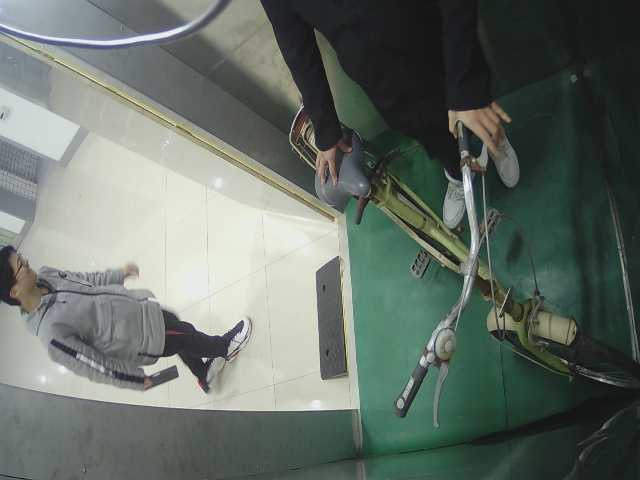bicycle: (282, 103, 640, 436)
person: (260, 1, 526, 232), (1, 244, 252, 400)
